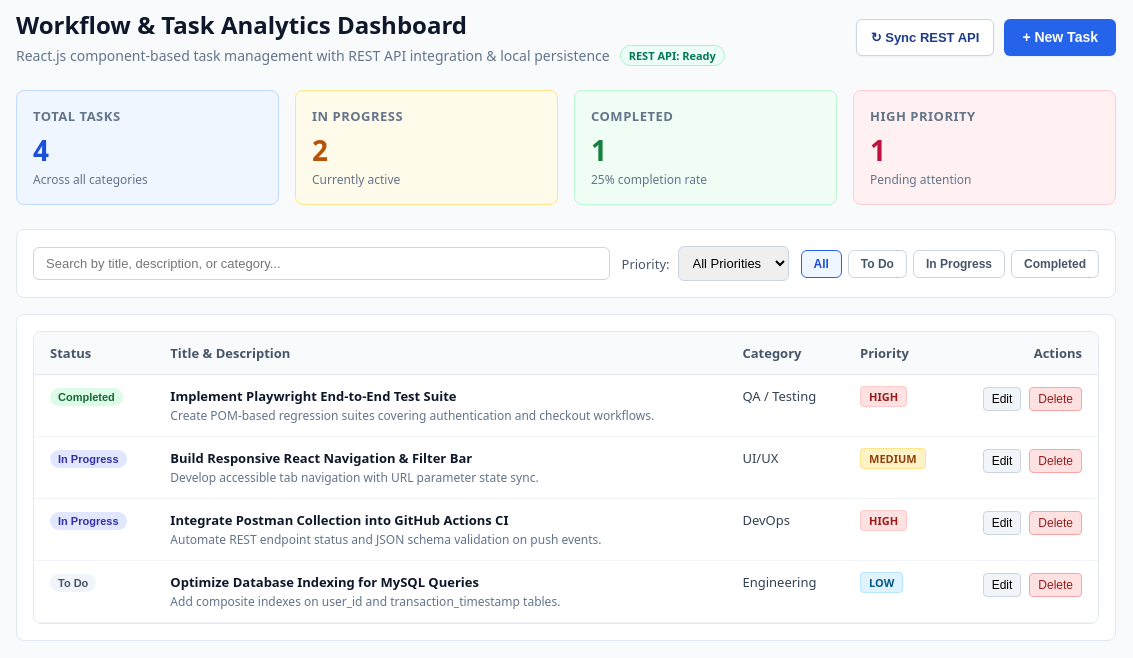
Scenario: App Dashboard Integration › filters tasks when typing in the search input
In the search field: [321, 264] box [33,247,610,280], type "Playwright"
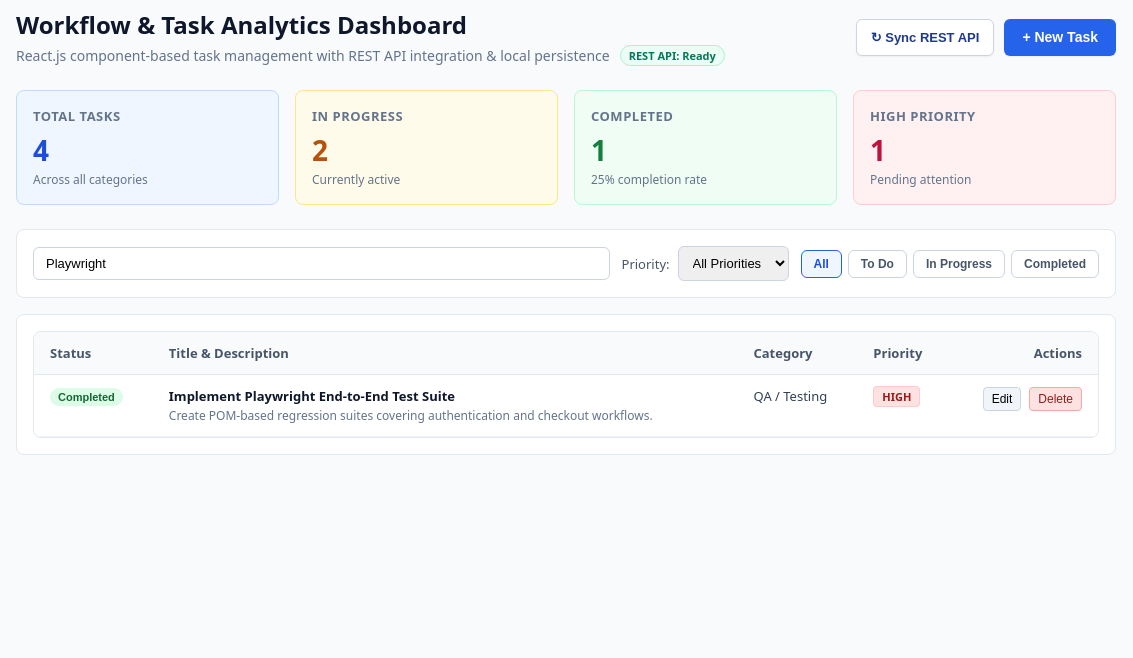
expect the text "Implement Playwright End-to-End Test Suite" is shown: met, box [169,387,455,405]
expect the text "Optimize Database Indexing for MySQL Queries" is gone: met
